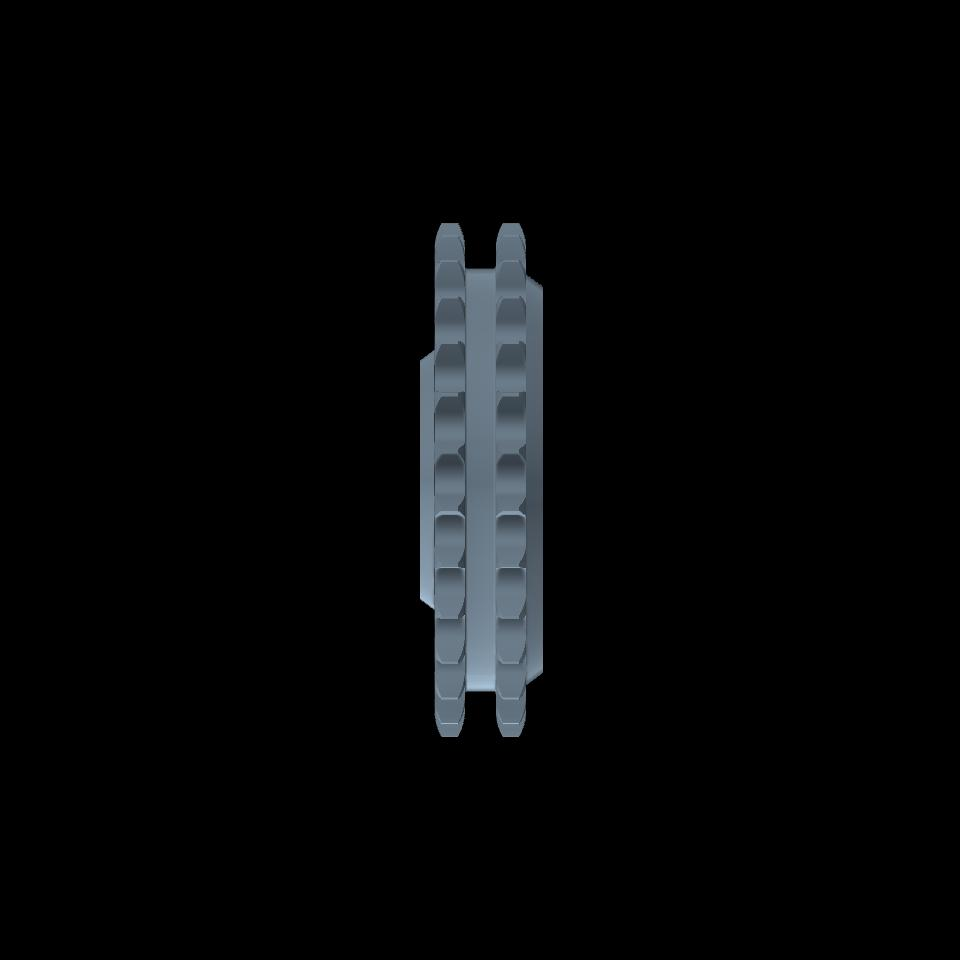Straight: (440, 222, 459, 735), (502, 222, 520, 734)
